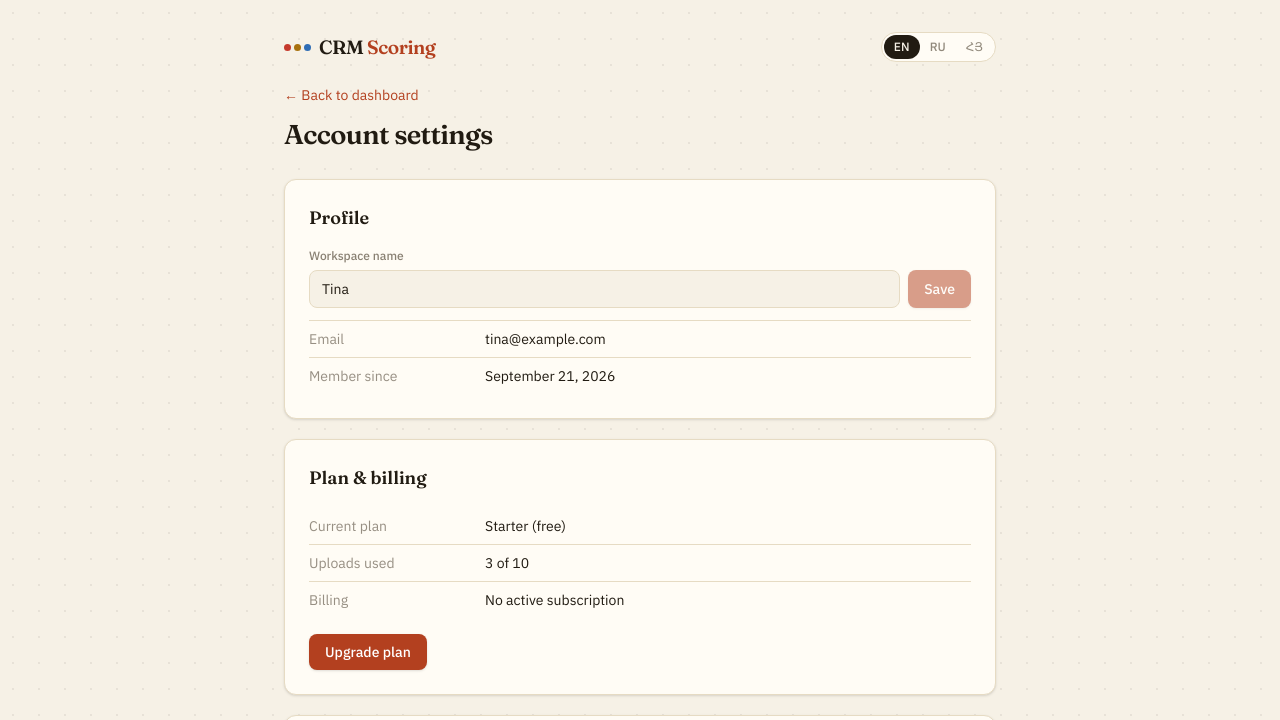
AccountSettings › renames the workspace
This screenshot has width=1280, height=720.
Replace the text in the field showing "Tina" with "Tina Co" at (605, 289), box [309,270,900,308]
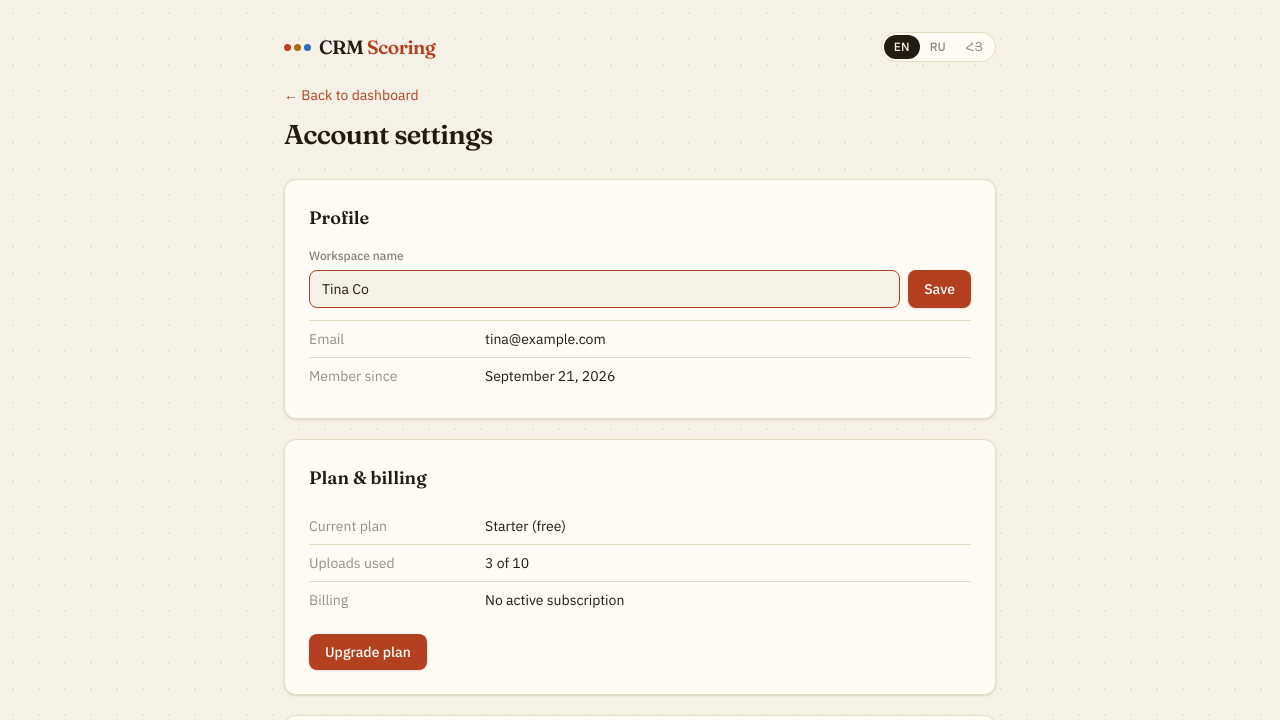
Click the button "Save" at (940, 289), box [908,270,971,308]
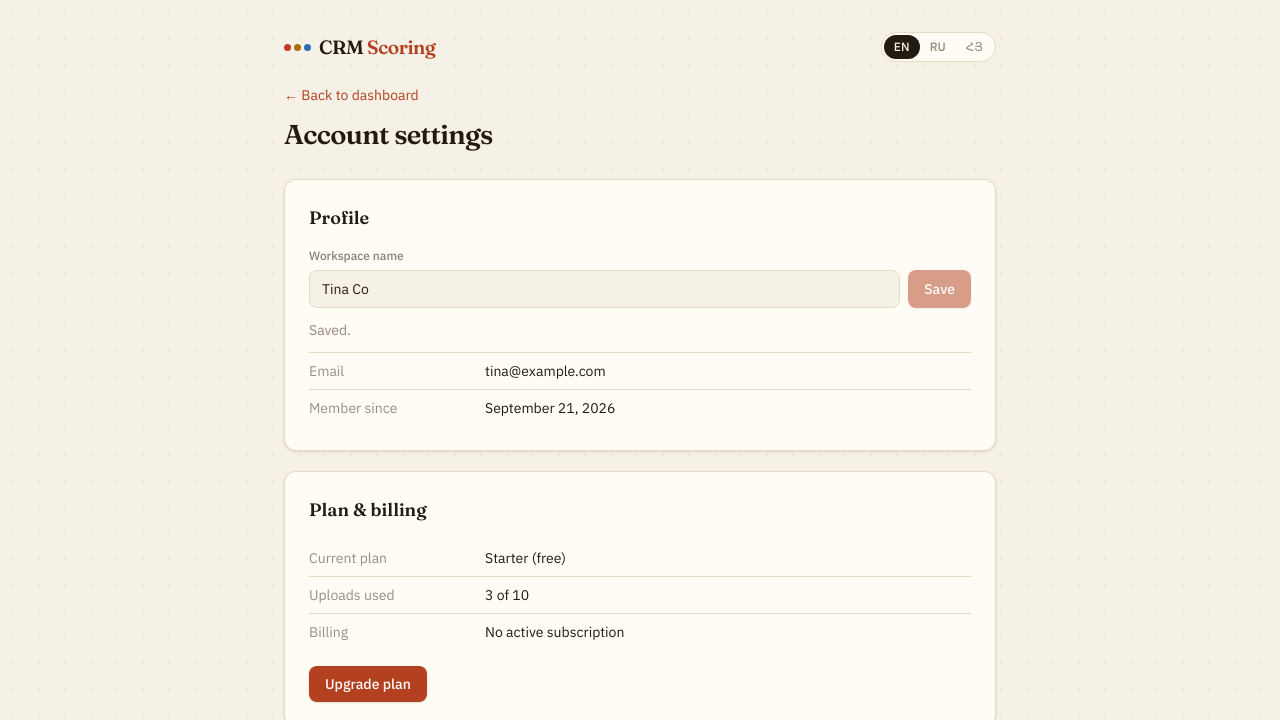
Now the text "Saved." is shown, box [309,321,351,339]
